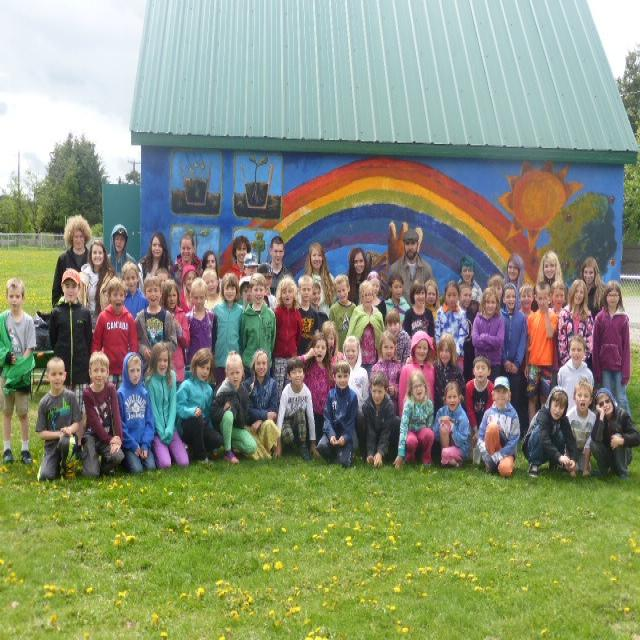body: (0, 268, 38, 473), (30, 354, 84, 486), (47, 267, 94, 417), (79, 348, 126, 480), (144, 340, 190, 471), (89, 274, 139, 390), (591, 280, 632, 421), (520, 384, 580, 480), (211, 348, 260, 465), (175, 346, 222, 466), (555, 334, 595, 474), (582, 383, 639, 480), (523, 279, 559, 425), (498, 280, 530, 441), (115, 349, 157, 471), (475, 375, 523, 481), (294, 331, 337, 448), (394, 367, 438, 473), (315, 362, 358, 469), (276, 356, 318, 463), (356, 370, 400, 470), (133, 273, 179, 367), (50, 213, 94, 311), (243, 348, 281, 461), (272, 274, 304, 406), (211, 270, 245, 390), (385, 227, 433, 309), (555, 276, 596, 371), (79, 239, 119, 336), (430, 378, 472, 470), (159, 277, 192, 392), (397, 328, 437, 419), (345, 278, 386, 366), (470, 286, 506, 386), (565, 377, 599, 480), (368, 330, 407, 418), (184, 274, 218, 370), (463, 353, 497, 448), (235, 270, 267, 370), (342, 335, 369, 453), (299, 241, 339, 320), (434, 280, 468, 372), (433, 330, 467, 422), (529, 248, 569, 313), (167, 225, 205, 292), (328, 272, 358, 355), (136, 229, 175, 292), (548, 279, 574, 373), (296, 273, 324, 360), (377, 271, 413, 337), (295, 272, 322, 357), (407, 276, 436, 353), (457, 280, 477, 384), (267, 233, 296, 300), (119, 259, 150, 321), (402, 279, 435, 337), (578, 255, 607, 320), (383, 305, 412, 367), (107, 223, 138, 280), (347, 245, 372, 308), (455, 253, 483, 304), (365, 268, 389, 327), (176, 261, 201, 316), (225, 235, 253, 281), (256, 260, 279, 312), (308, 279, 330, 332), (200, 265, 225, 311), (320, 318, 341, 371), (201, 249, 223, 295), (502, 252, 527, 292), (516, 283, 537, 325), (487, 273, 507, 315), (153, 267, 170, 309), (237, 274, 254, 310), (241, 251, 260, 277)
